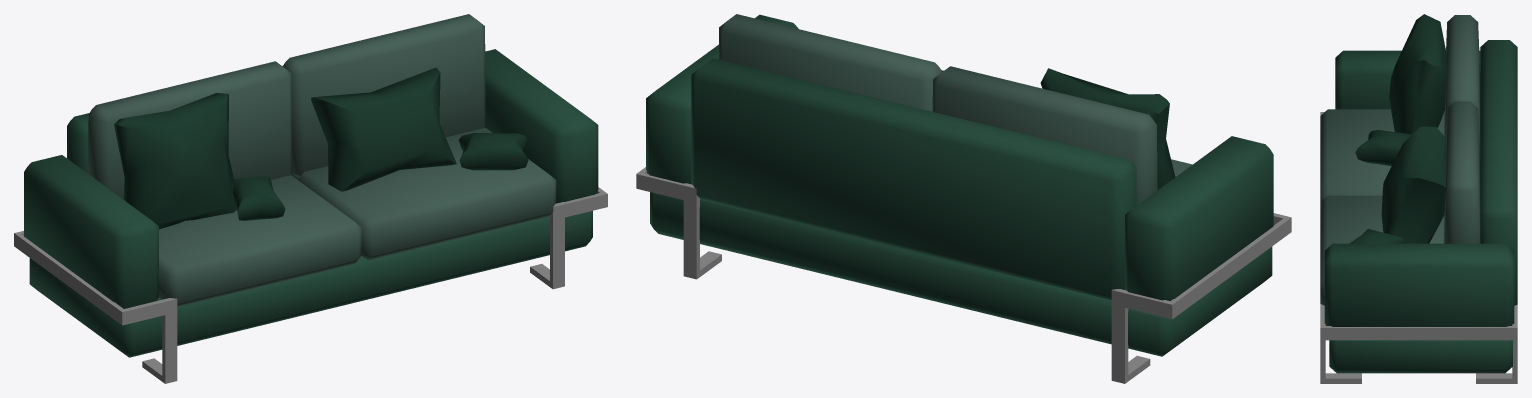
File: sofa019.glb
The picture shows the model from 3 angles, left to right: view 1: azimuth 30°, elevation 25°; view 2: azimuth 150°, elevation 25°; view 3: azimuth 270°, elevation 25°; orthographic projection. The views are drawn at different scales.
Visible parts, largest first — view 1: sofa.019; view 2: sofa.019; view 3: sofa.019.
Part boxes in pixels (x1=…): sofa.019: x1=14, y1=14, x2=607, y2=383; sofa.019: x1=636, y1=14, x2=1291, y2=383; sofa.019: x1=1320, y1=14, x2=1517, y2=383.
Size of the model in its own units: 2.48 by 1.08 by 0.9586.
Materials: 1 (1 with a texture image).
